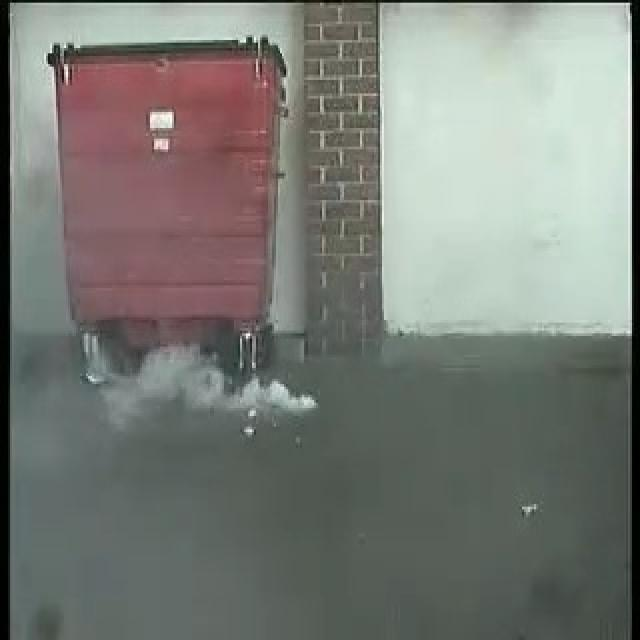smoke: (94, 337, 325, 438)
